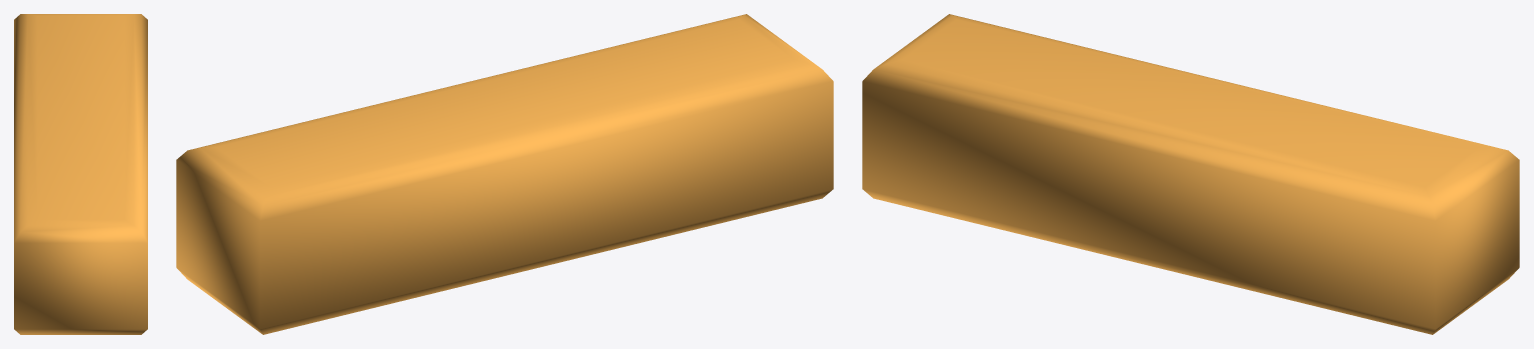
Rendered from Toy98.fbx.
The picture shows the model from 3 angles, left to right: view 1: azimuth 30°, elevation 25°; view 2: azimuth 150°, elevation 25°; view 3: azimuth 270°, elevation 25°; orthographic projection. The views are drawn at different scales.
Parts seen in each view (by area): view 1: Toy98; view 2: Toy98; view 3: Toy98.
Boxes of the visible parts, x1,y1,x2,y2 form: Toy98: [14, 14, 147, 334]; Toy98: [176, 14, 833, 334]; Toy98: [862, 14, 1519, 334].
Size of the model in its own units: 0.1104 by 0.0364 by 0.1524.
